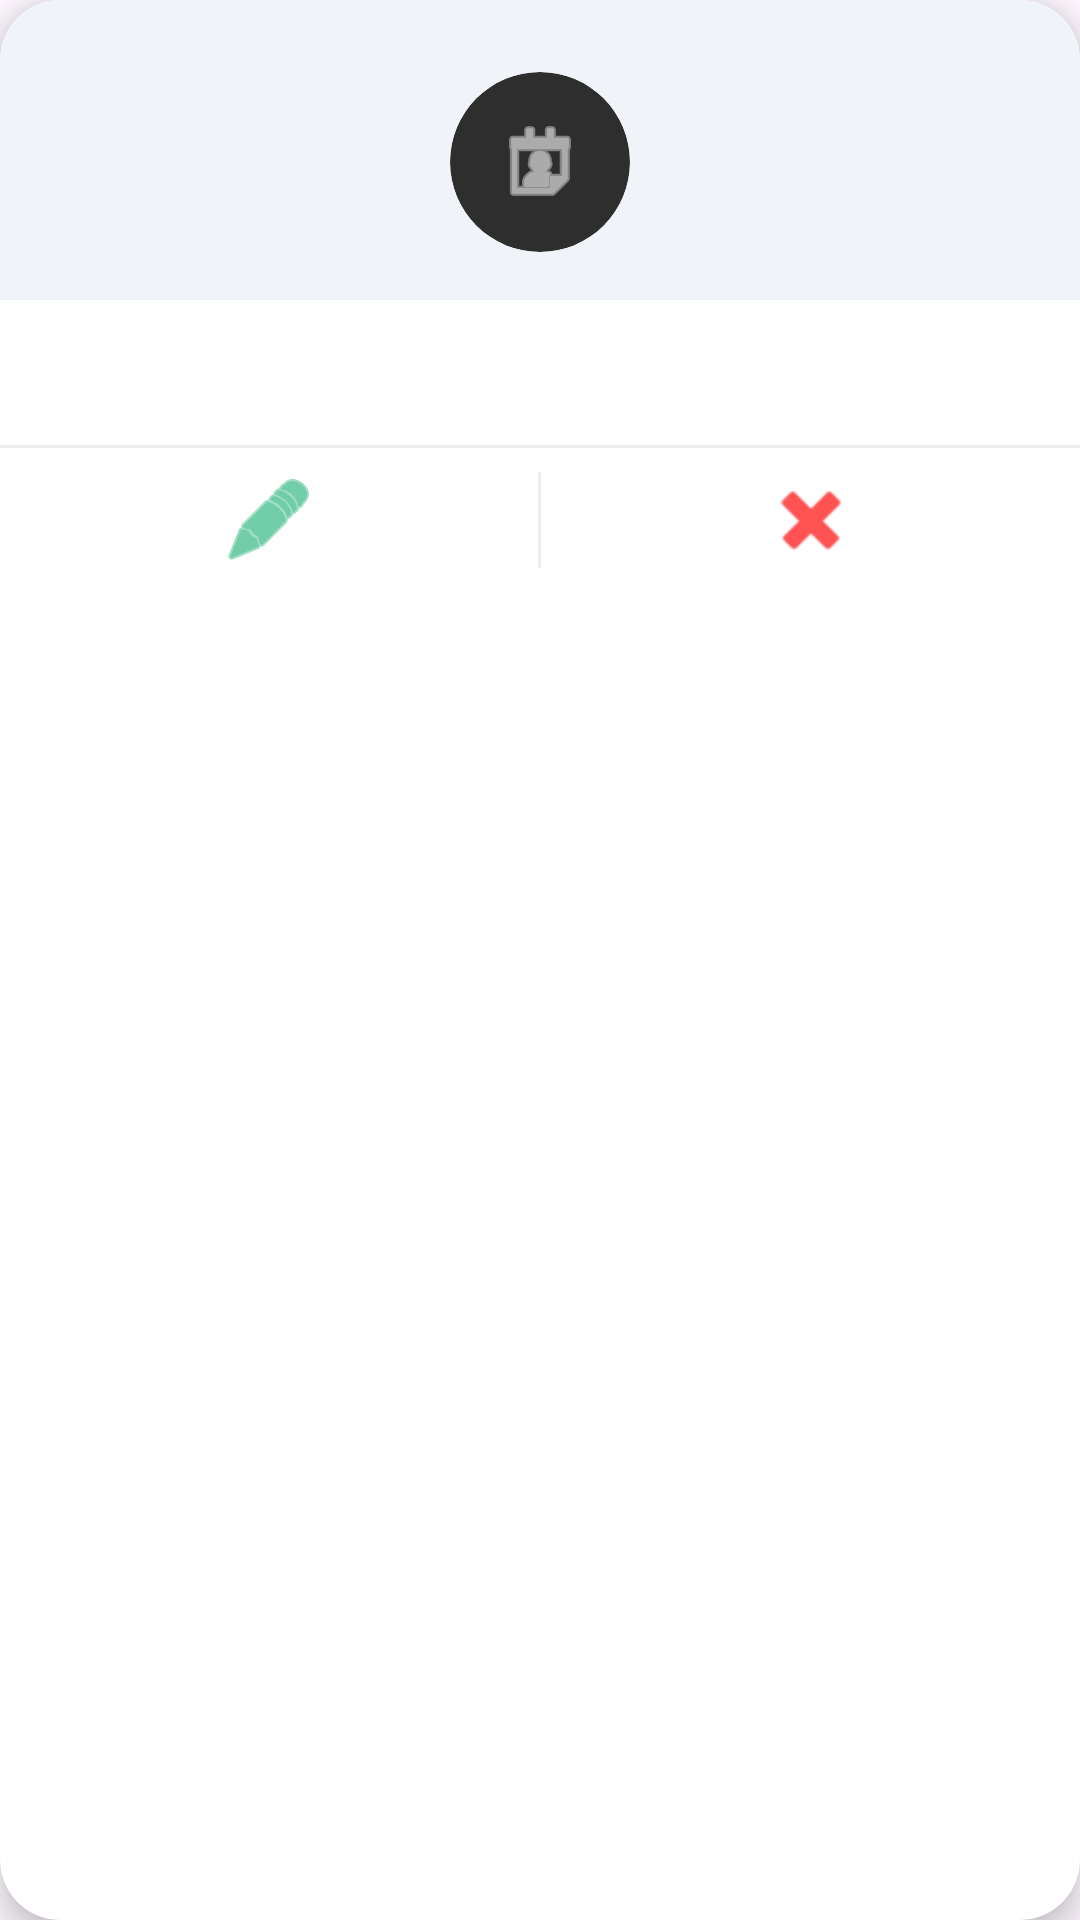

Icons on this 1080px×1920px Android screen, each with the point to tap as [x,y]:
calendar: [540,162]
delete: [811,520]
edit: [268,519]
